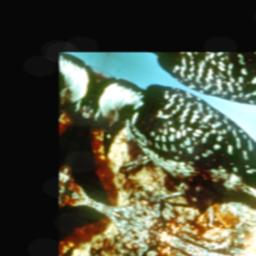Woodpecker: (63, 54, 256, 256)
